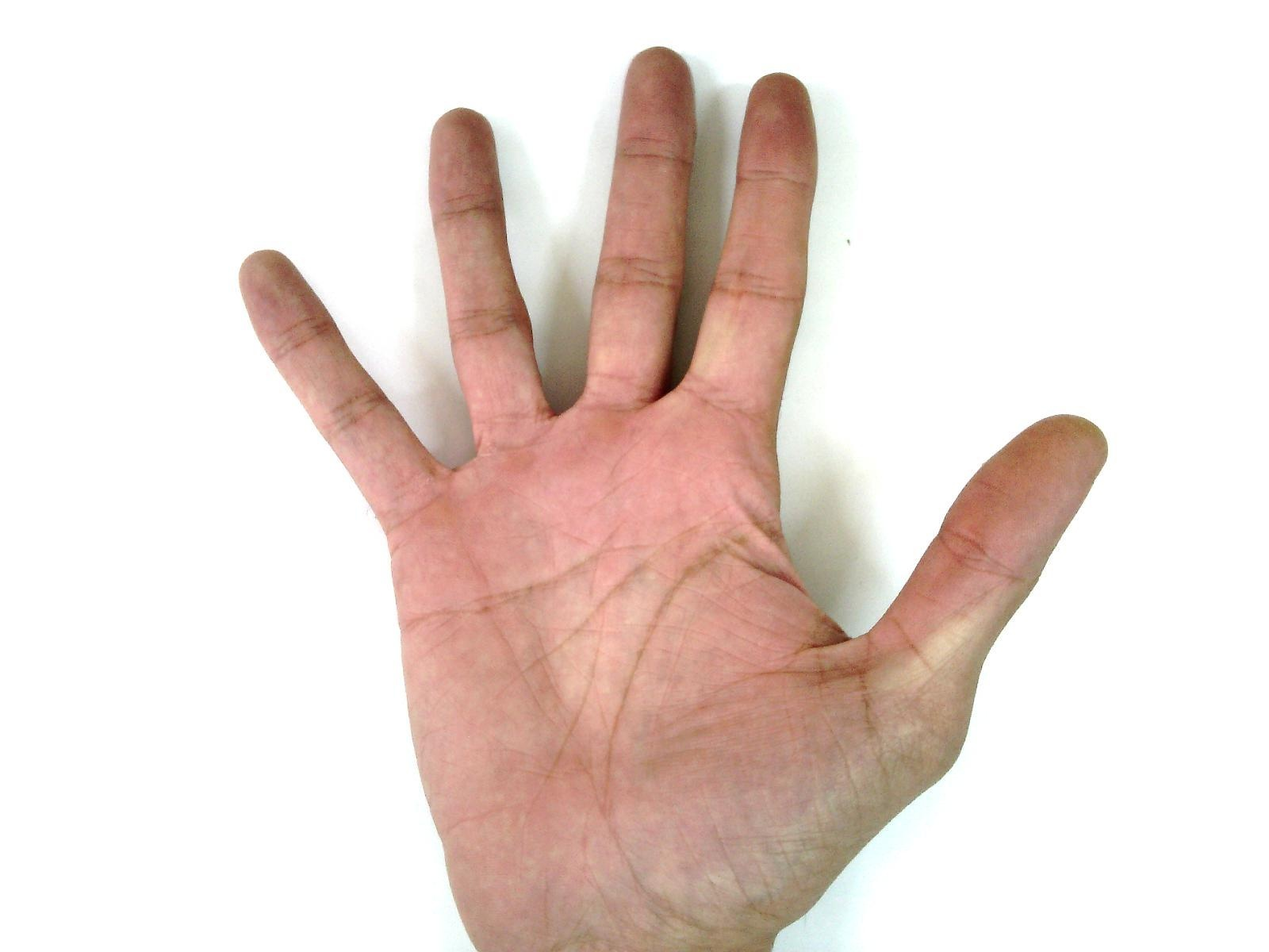open_palm: (236, 44, 1110, 931)
